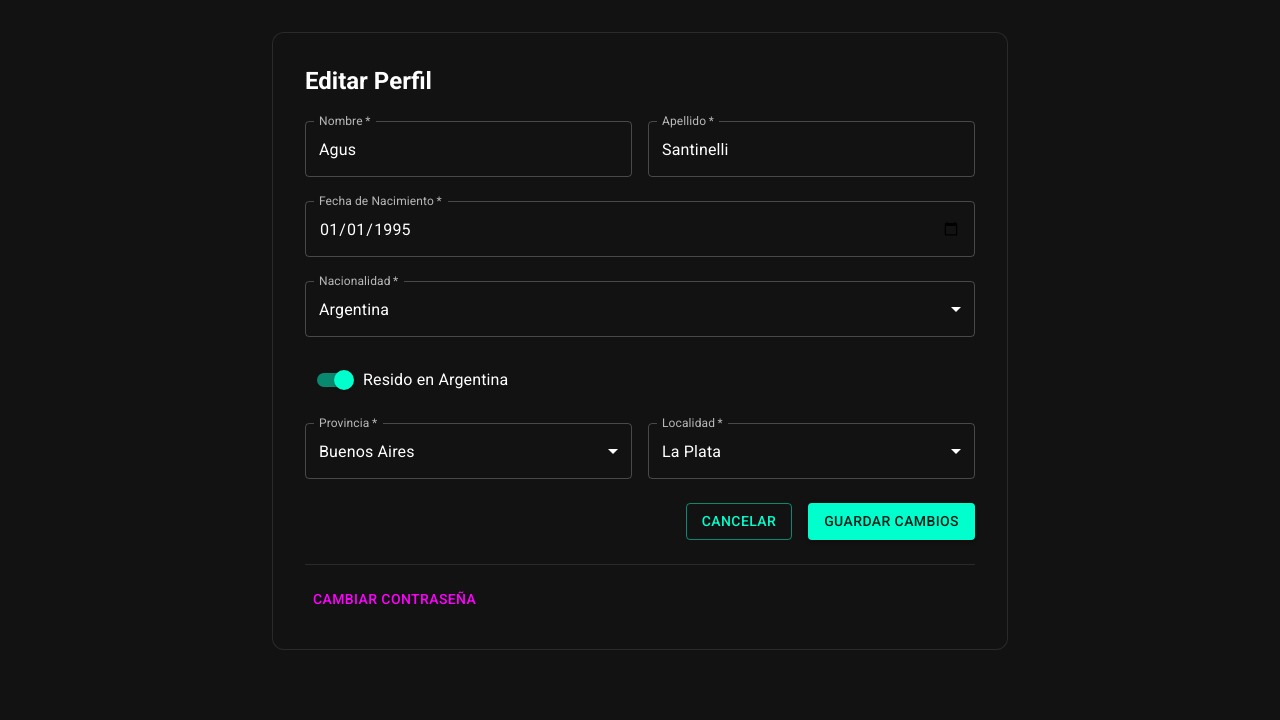
UserProfile Integration › should render profile data and allow editing
Expected: the field labelled "Apellido *" holds "Santinelli", x1=648 y1=121 x2=975 y2=177
Note: Edit name
Replace the text in the field labelled "Nombre *" with "Agustin" at {"x": 468, "y": 149}, box x1=305 y1=121 x2=632 y2=177
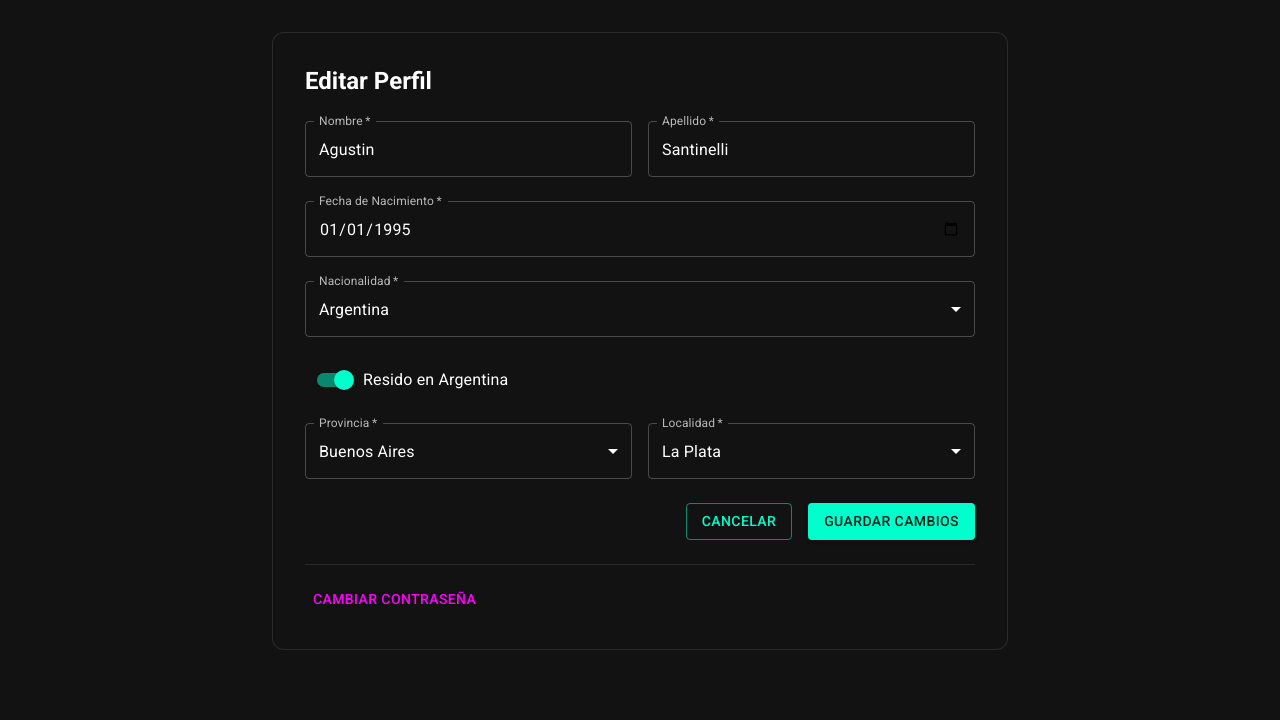
Click the button "Guardar Cambios" at {"x": 892, "y": 521}, box x1=808 y1=503 x2=975 y2=540
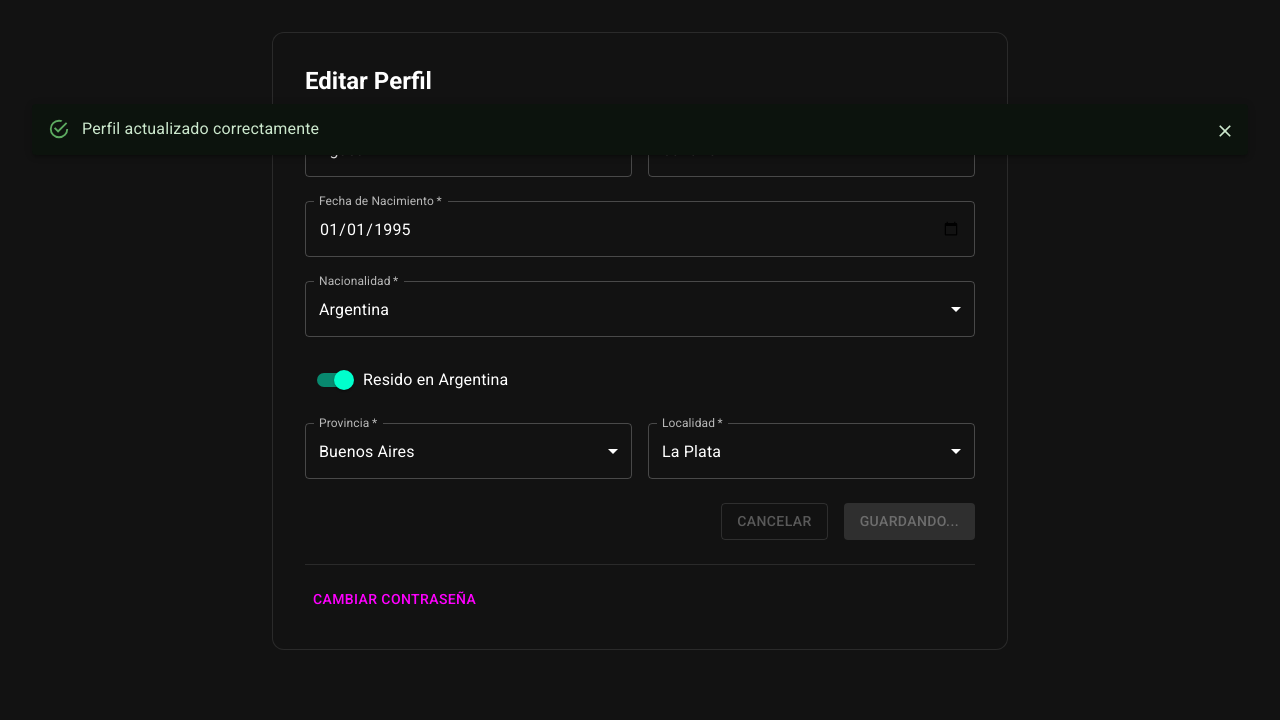
Result: the text "Perfil actualizado correctamente" is shown at x1=82 y1=119 x2=319 y2=138
